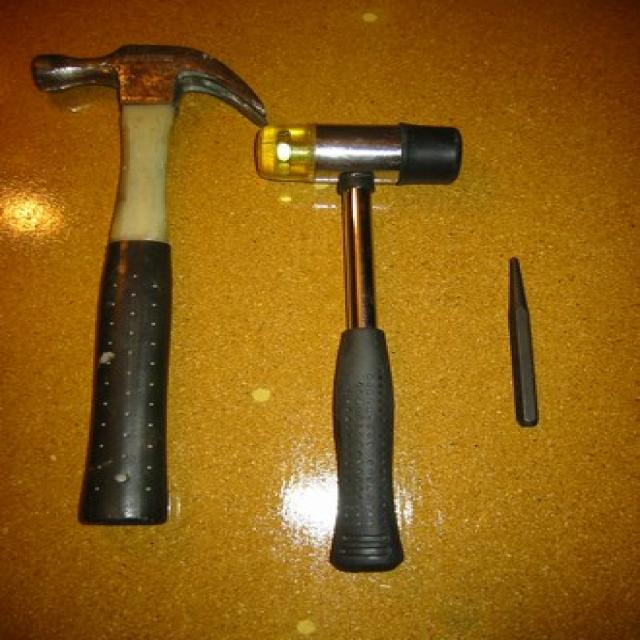hammer: (16, 11, 288, 483), (254, 92, 480, 475)
